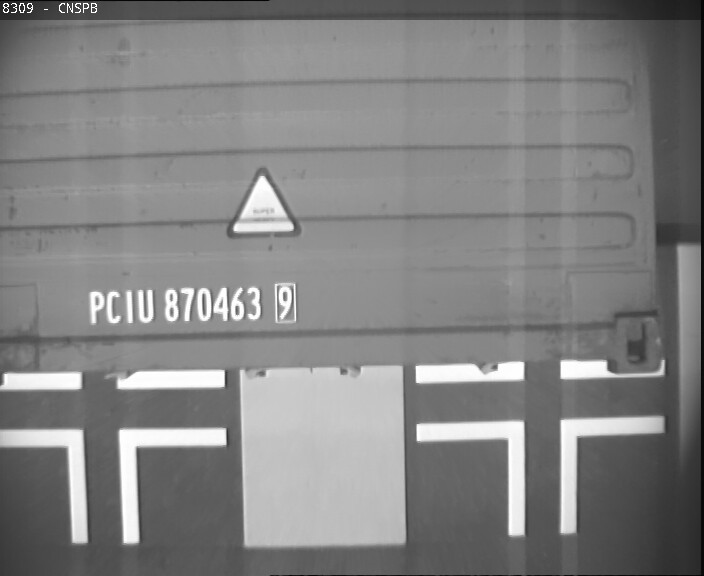groundmarker_1: (413, 417, 663, 534), (1, 426, 225, 544)
